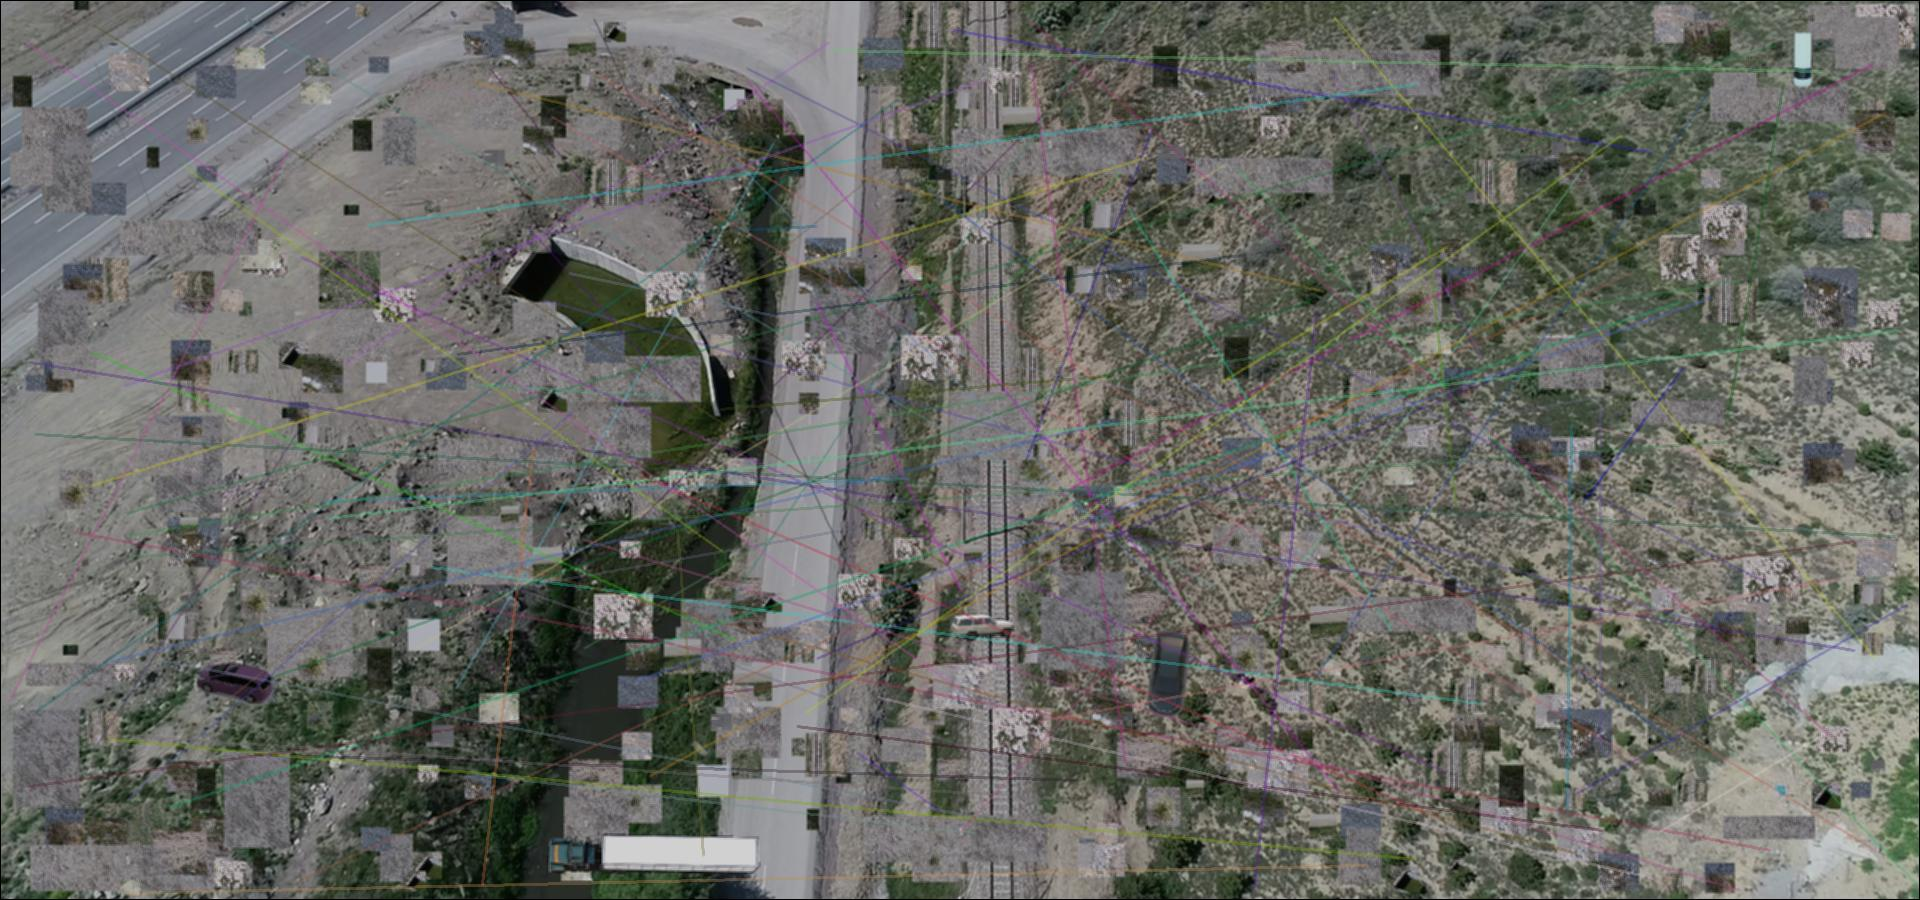arac: (546, 830, 764, 883), (1134, 628, 1190, 719), (196, 662, 274, 707), (951, 613, 1014, 640), (1791, 31, 1817, 89)
